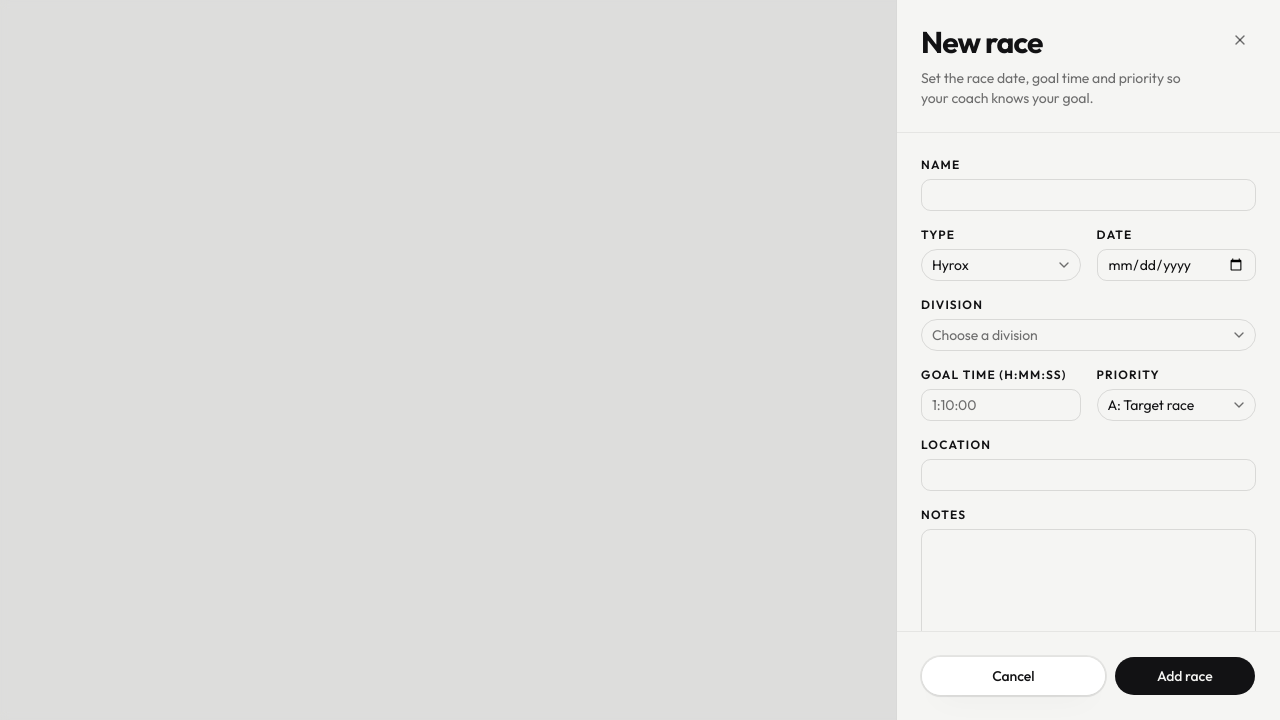
Test: RaceFormDrawer › shows errors and does not submit when invalid
Click the button with test id "race-form-submit" at {"x": 1185, "y": 676}, box top-left (1114, 656), bottom-right (1256, 696)
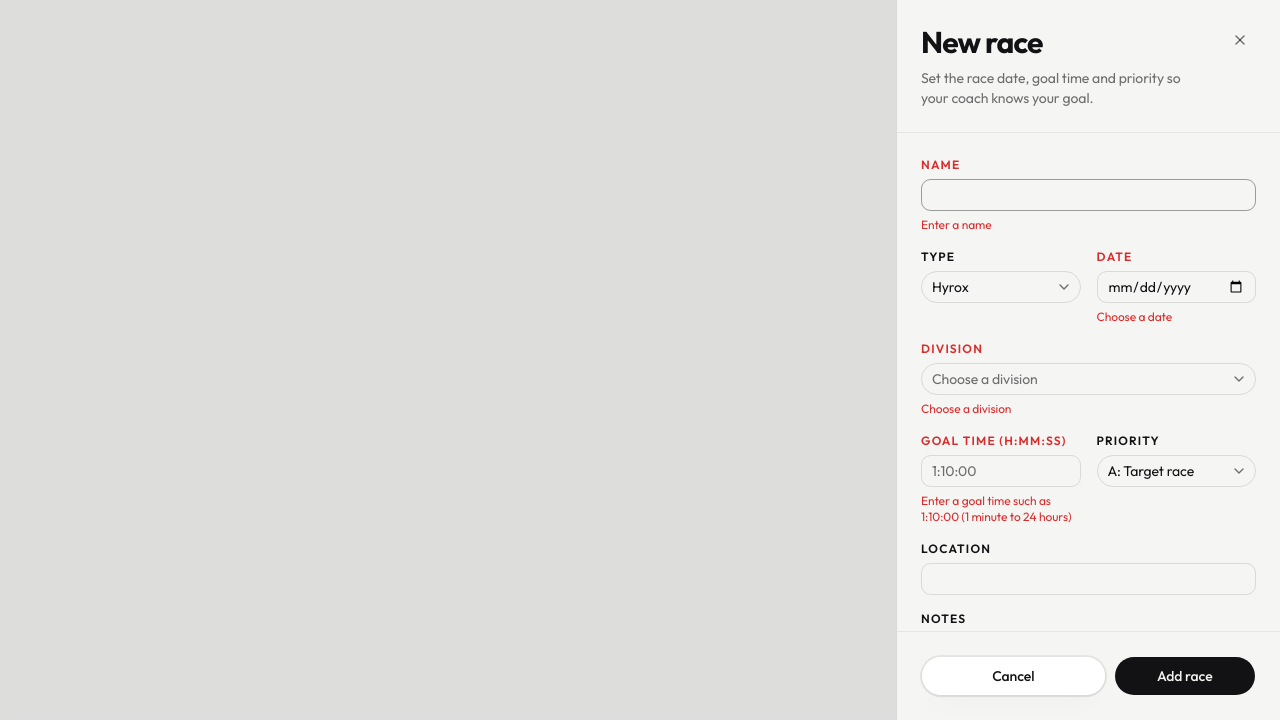
expect the text "Enter a name" is shown: met, box top-left (921, 217), bottom-right (992, 232)
expect the text "Choose a date" is shown: met, box top-left (1096, 309), bottom-right (1172, 324)
expect the text with test id "race-form-division-error" is shown: met, box top-left (921, 401), bottom-right (1011, 416)
